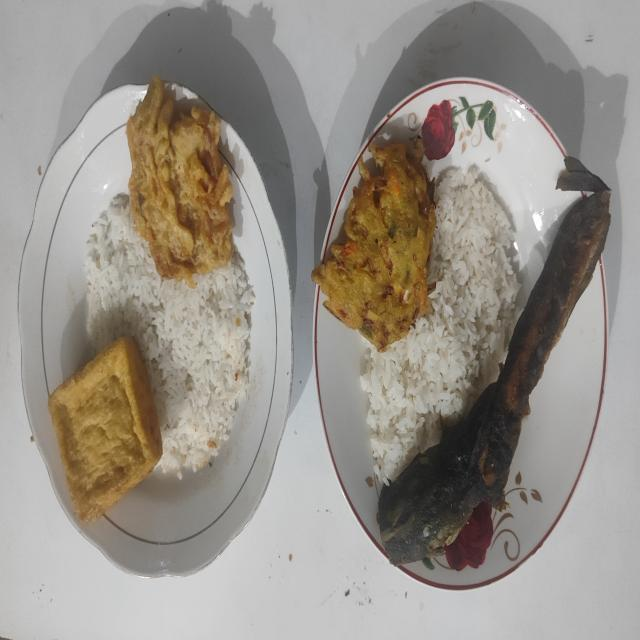nasi_putih: (360, 166, 520, 484), (84, 195, 256, 479)
tahu_goreng: (49, 337, 162, 521)
